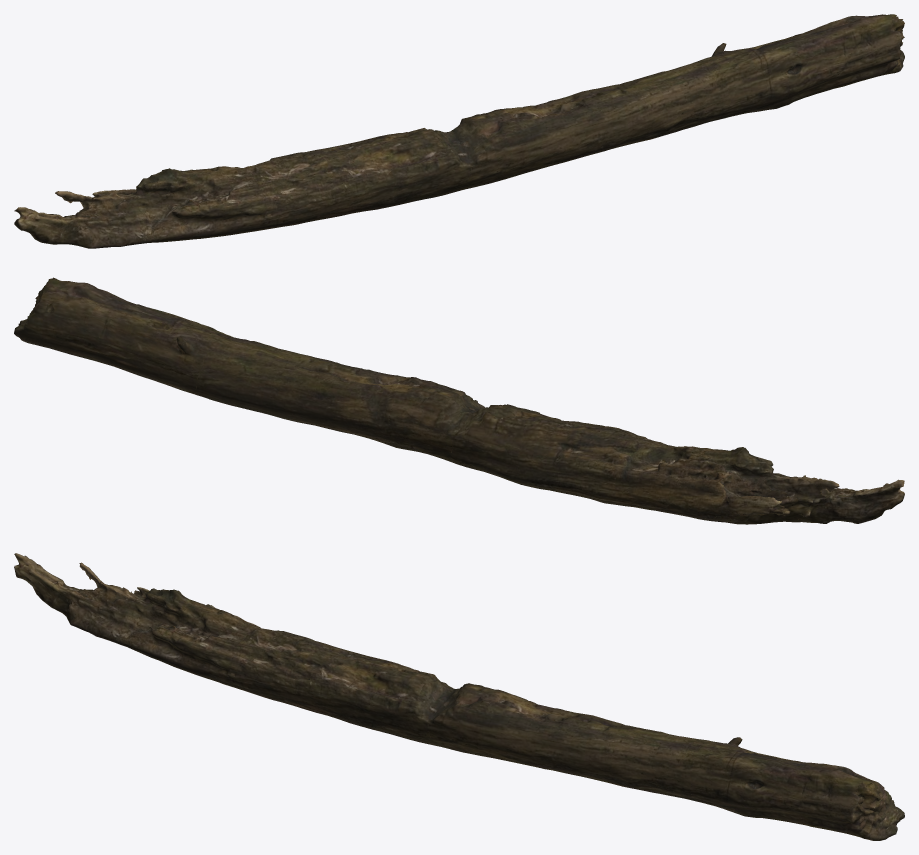
Rendered from dead_tree_trunk_1k.glb.
3 renders of one model, top to bottom at view 1: azimuth 30°, elevation 25°; view 2: azimuth 150°, elevation 25°; view 3: azimuth 330°, elevation 25°, orthographic.
Visible parts, largest first — view 1: dead_tree_trunk; view 2: dead_tree_trunk; view 3: dead_tree_trunk.
Part boxes in pixels (x1=…): dead_tree_trunk: x1=14, y1=14, x2=904, y2=248; dead_tree_trunk: x1=14, y1=277, x2=904, y2=524; dead_tree_trunk: x1=14, y1=553, x2=904, y2=840.
Size of the model in its own units: 3.05 by 0.2896 by 0.2772.
1 material, 1 textured.
